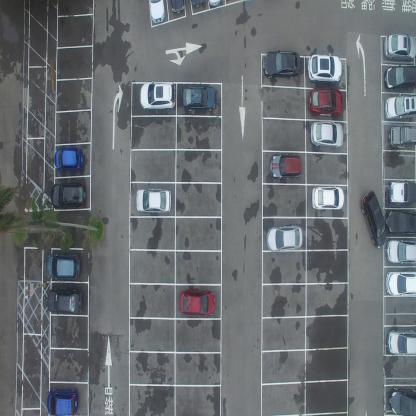car: (360, 188, 388, 249), (262, 49, 300, 80), (307, 52, 342, 84), (140, 82, 176, 112), (308, 86, 343, 116), (135, 186, 171, 215), (266, 224, 303, 251), (383, 31, 416, 61), (179, 290, 216, 316), (386, 326, 416, 358), (50, 182, 85, 209), (45, 253, 80, 280), (47, 288, 82, 315), (46, 386, 78, 415), (311, 120, 344, 148), (386, 178, 416, 208), (385, 208, 416, 237), (384, 64, 416, 92), (312, 183, 346, 209), (182, 86, 216, 112), (386, 238, 416, 267), (270, 153, 302, 180), (384, 95, 416, 122), (388, 385, 415, 415), (385, 270, 416, 296), (54, 146, 84, 172), (388, 124, 416, 151), (148, 0, 164, 26), (171, 0, 185, 18), (190, 0, 203, 8), (208, 0, 221, 7)
